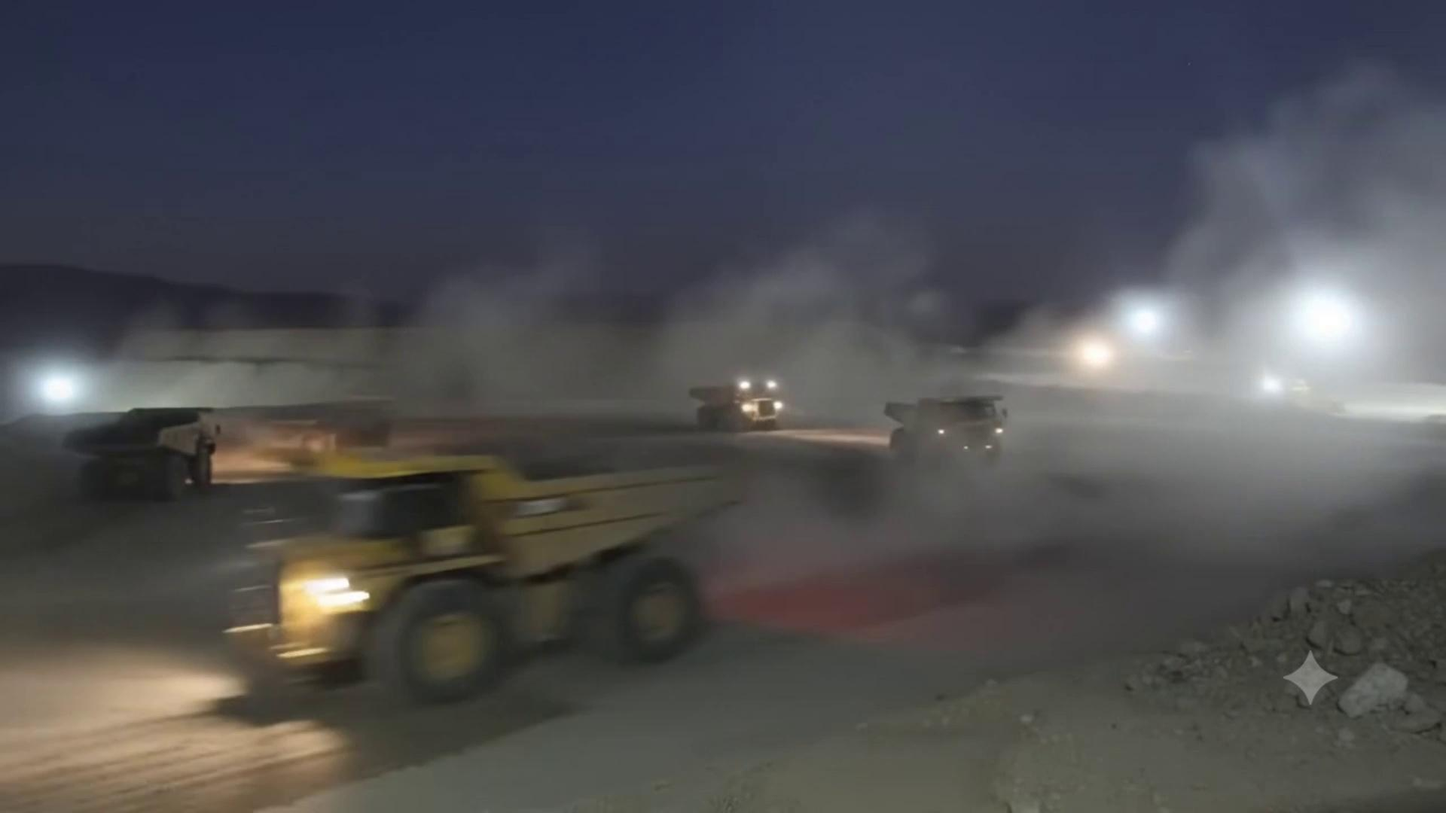CAEX: (238, 452, 746, 705), (60, 400, 227, 504), (880, 380, 1013, 473), (681, 374, 784, 432)
